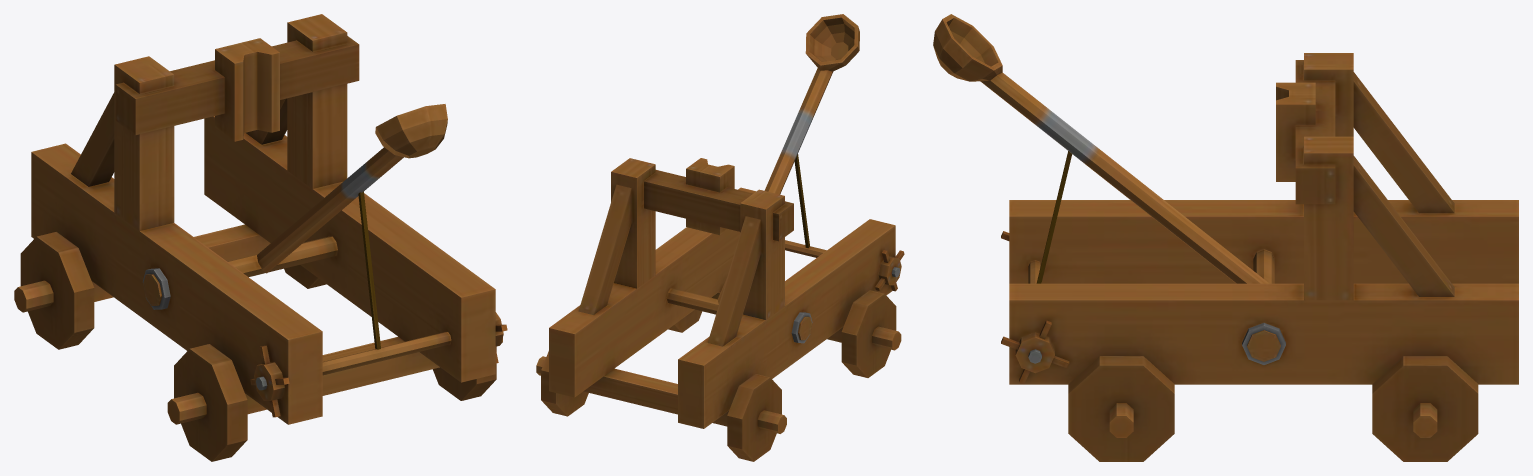
Rendered from 9ahVI0EijEi.glb.
3 views of the same model, side by side, from view 1: azimuth 30°, elevation 25°; view 2: azimuth 150°, elevation 25°; view 3: azimuth 270°, elevation 25° (orthographic). The views are drawn at different scales.
Parts seen in each view (by area): view 1: Catapult_mesh; view 2: Catapult_mesh; view 3: Catapult_mesh.
Part boxes in pixels (x1,y1,x2,y2): Catapult_mesh: (14, 14, 507, 461); Catapult_mesh: (536, 14, 904, 461); Catapult_mesh: (933, 14, 1518, 461).
Bounding box in the file's own units: 0.8885 × 1 × 1.41.
1 material, 1 textured.
